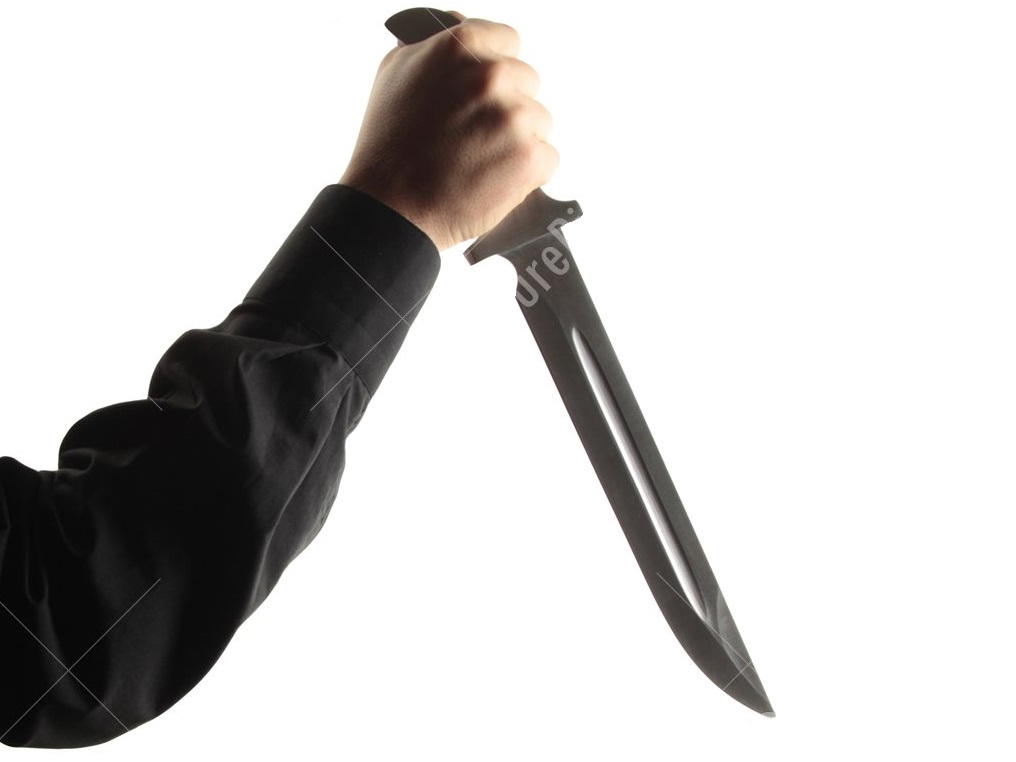knife: (446, 56, 803, 741)
